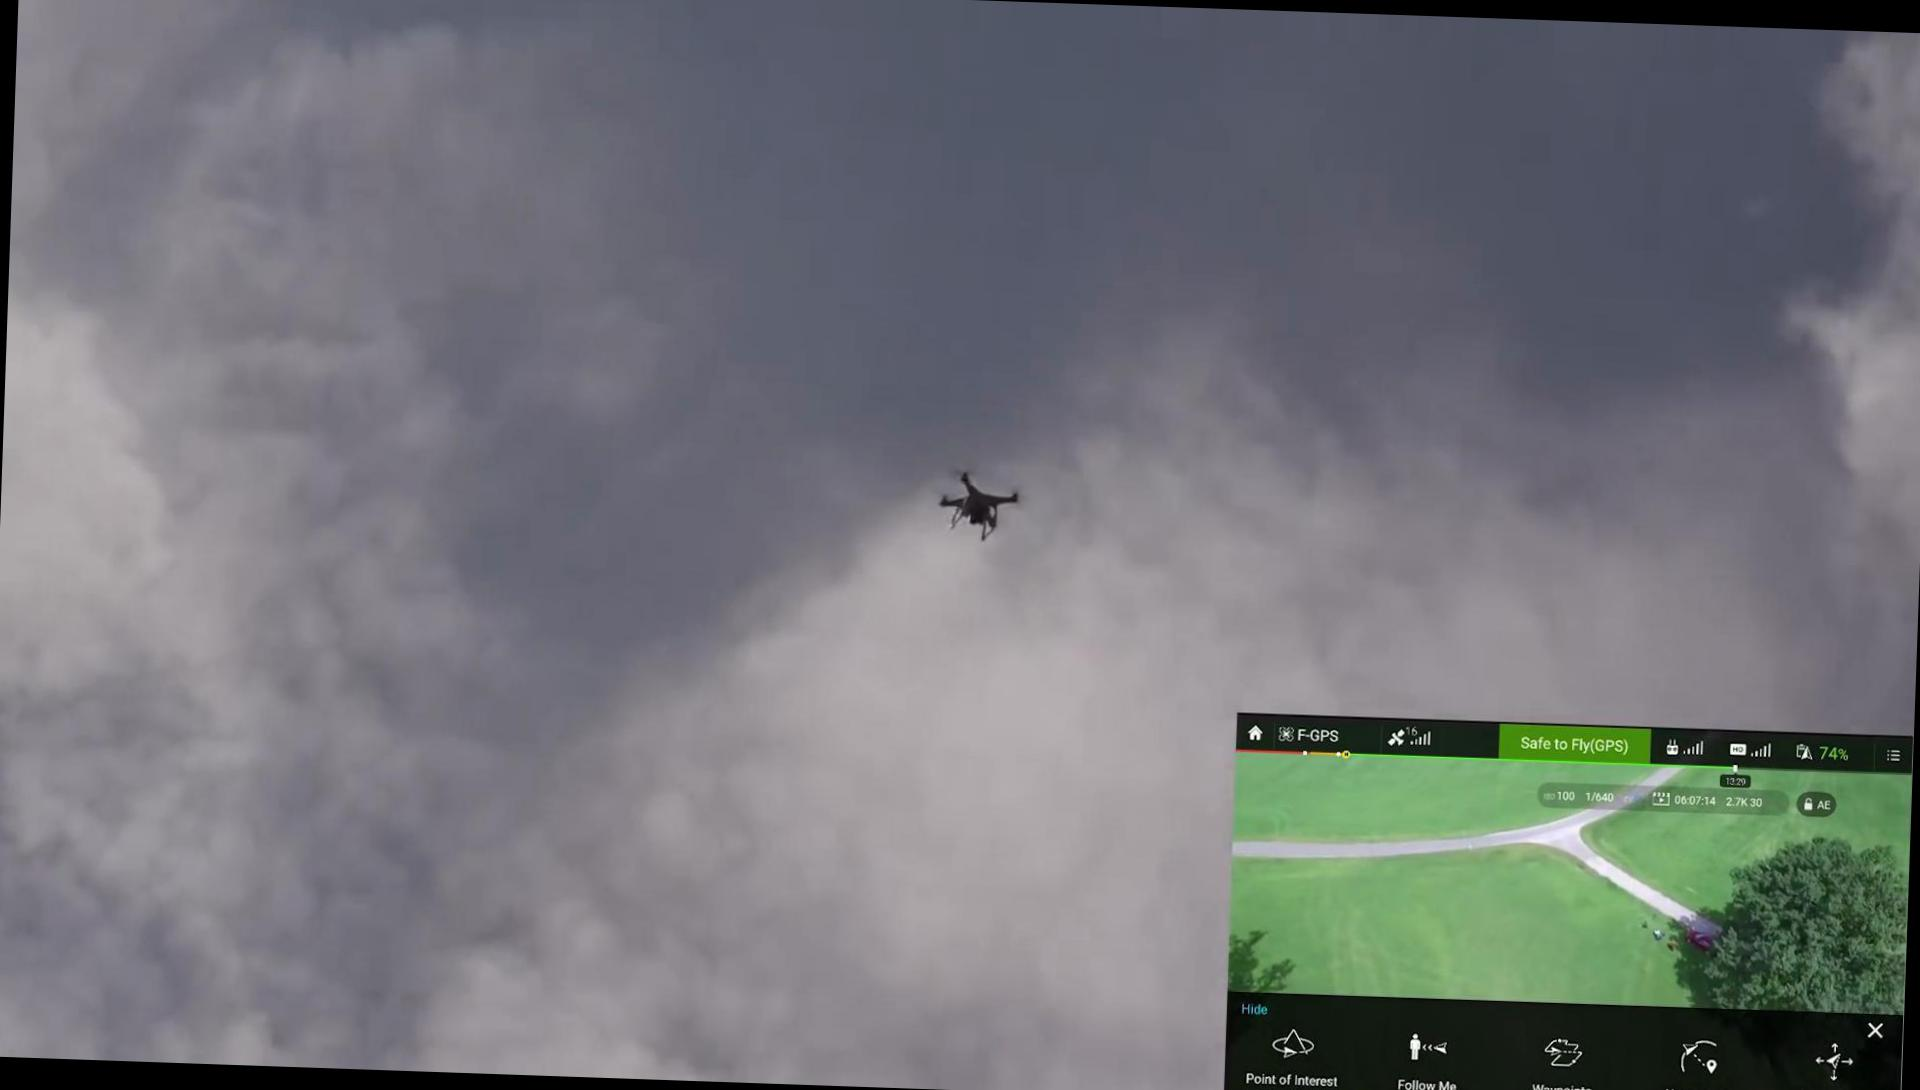drone: (923, 459, 1025, 539)
